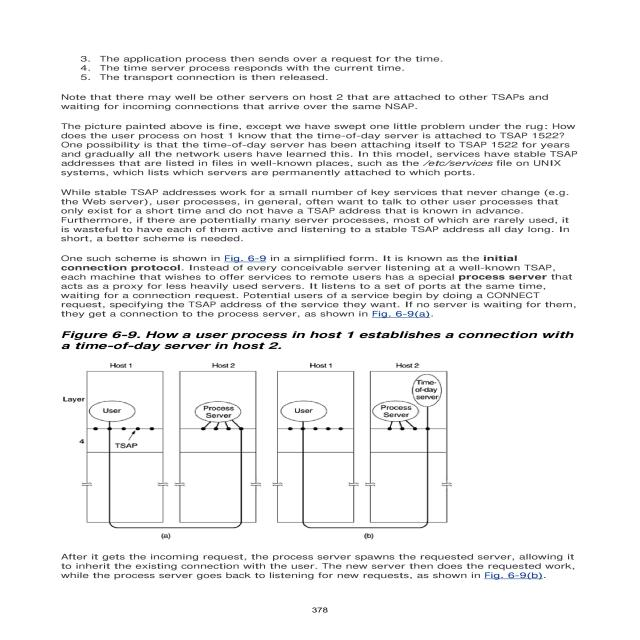diagram: (21, 325, 604, 545)
